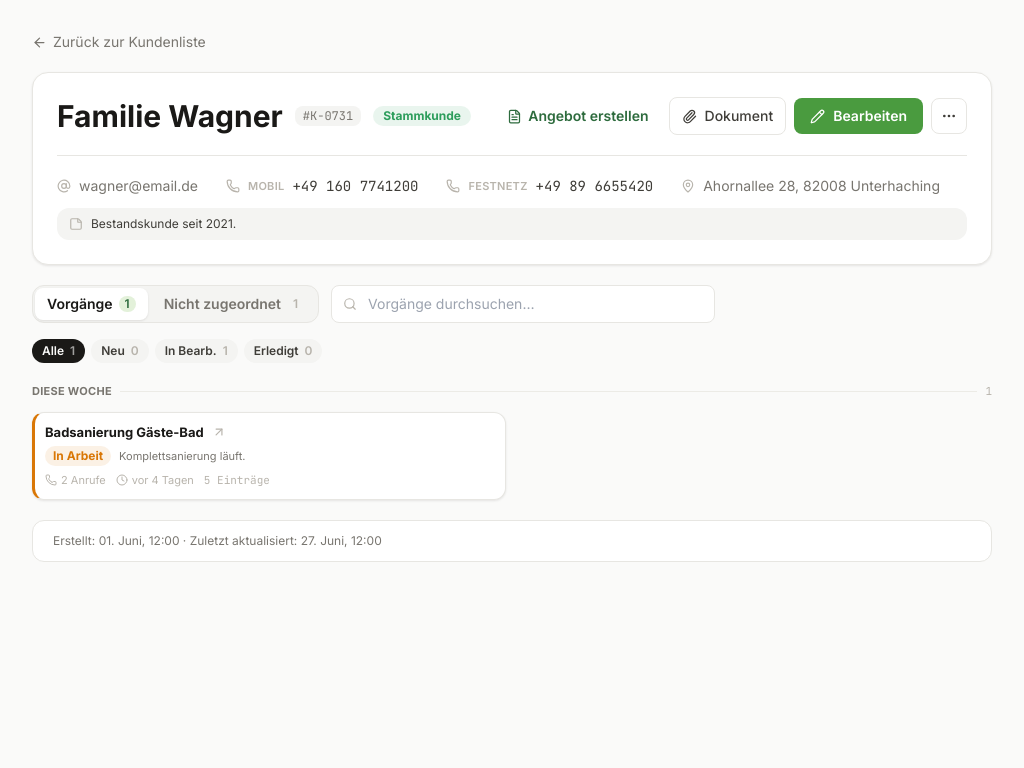
Scenario: CustomerDetailPage redesign › opens orphan tab and shows assign link
Expected: the text "Badsanierung Gäste-Bad" is shown, [45, 422, 204, 442]
Click the button "Nicht zugeordnet 1". click: {"x": 234, "y": 304}
box: [152, 288, 316, 320]
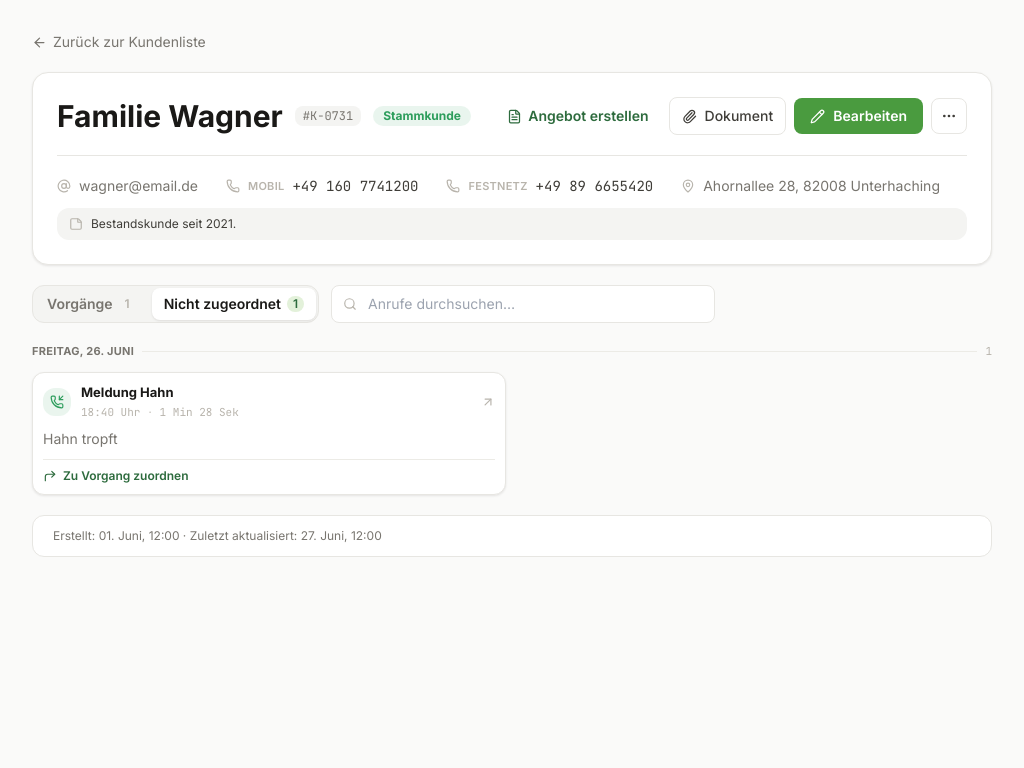
Result: the button "Zu Vorgang zuordnen" is shown at [43, 468, 188, 484]
